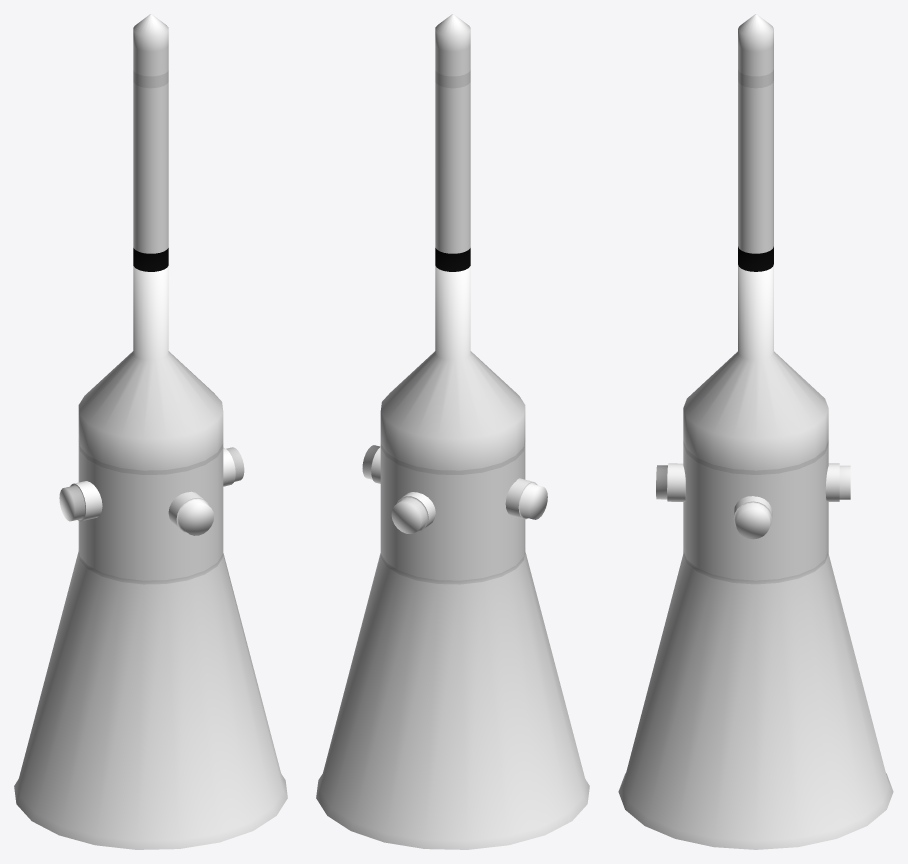
File: capsula.obj
3 renders of one model, left to right at view 1: azimuth 30°, elevation 25°; view 2: azimuth 150°, elevation 25°; view 3: azimuth 270°, elevation 25°, orthographic.
Bounding box in the file's own units: 0.7859 × 2.45 × 0.7859.
